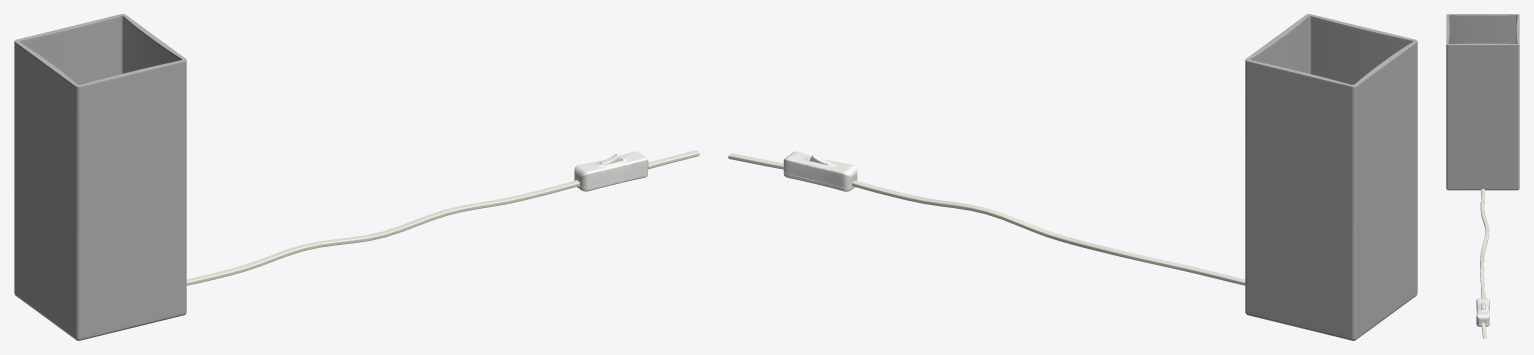
The model's file is GRONO table lamp.glb.
3 renders of one model, left to right at view 1: azimuth 30°, elevation 25°; view 2: azimuth 150°, elevation 25°; view 3: azimuth 270°, elevation 25°, orthographic. The views are drawn at different scales.
Parts seen in each view (by area): view 1: 10373221-GRÃƒâ€“NÃƒâ€“001; view 2: 10373221-GRÃƒâ€“NÃƒâ€“001; view 3: 10373221-GRÃƒâ€“NÃƒâ€“001.
Boxes of the visible parts, bbox=[...] form: 10373221-GRÃƒâ€“NÃƒâ€“001: bbox=[14, 14, 699, 340]; 10373221-GRÃƒâ€“NÃƒâ€“001: bbox=[728, 14, 1417, 340]; 10373221-GRÃƒâ€“NÃƒâ€“001: bbox=[1446, 14, 1519, 338].
Size of the model in its own units: 0.5896 by 0.22 by 0.1.
1 material, 1 textured.
